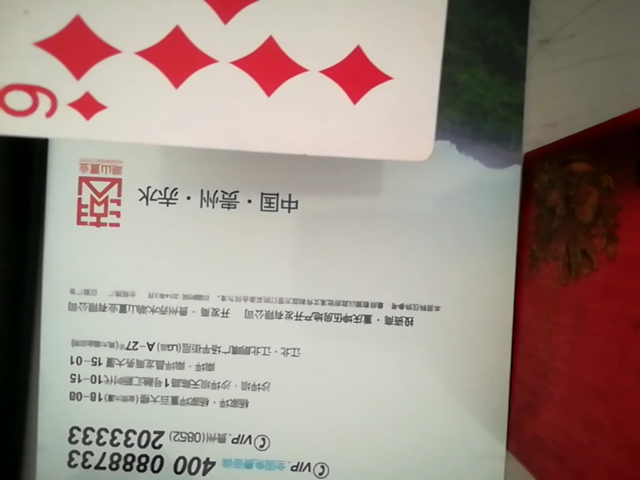fk 9: (0, 0, 458, 166)
